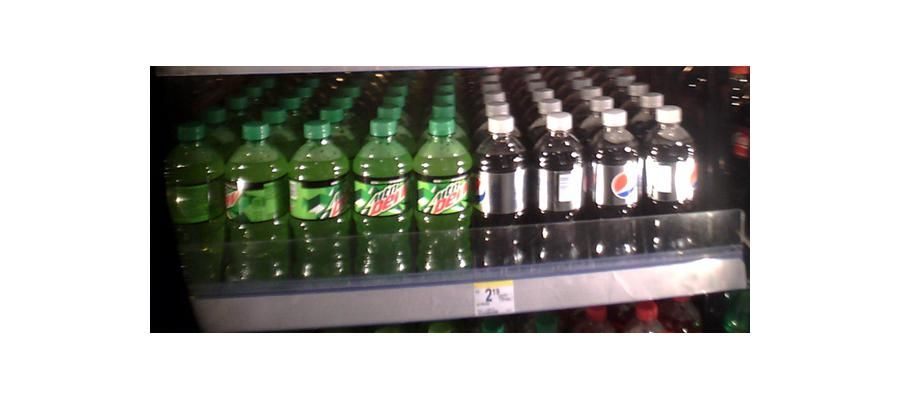bottle: (477, 81, 532, 270), (226, 121, 288, 285), (413, 104, 472, 274), (351, 116, 412, 279), (167, 127, 225, 291), (289, 124, 349, 279), (535, 108, 585, 262), (588, 108, 639, 254), (642, 106, 701, 228)
